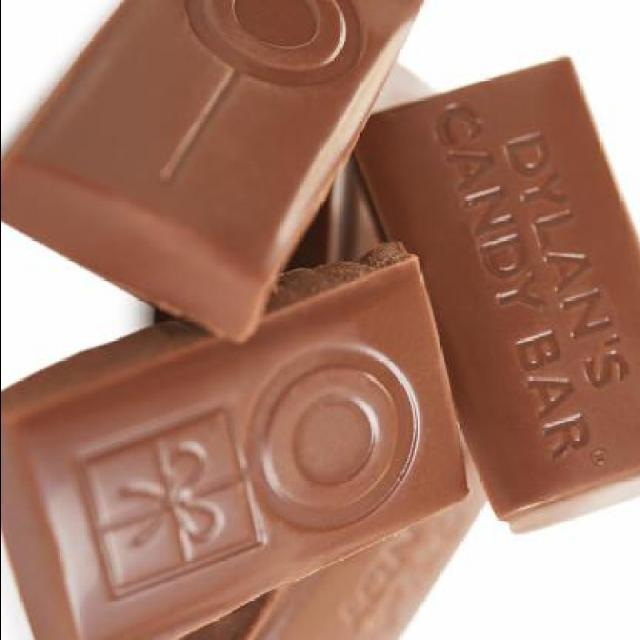Chocolate bar packaged: (1, 239, 470, 639), (1, 0, 424, 343), (350, 52, 638, 543)
